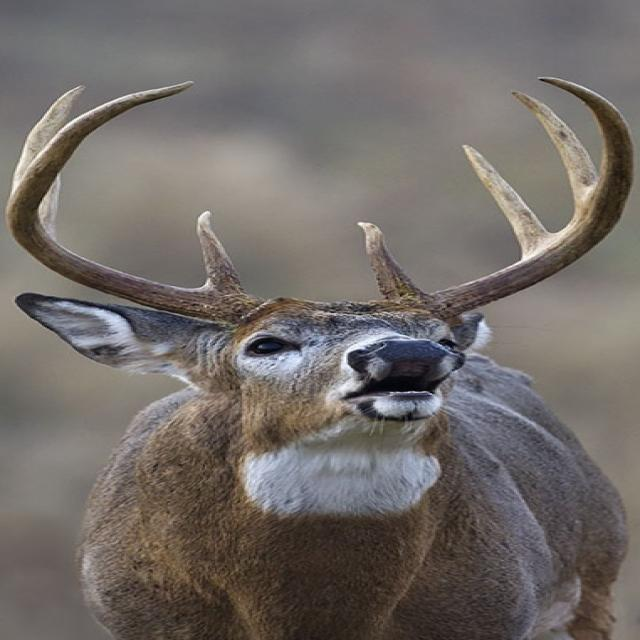L-F: (388, 76, 634, 319)
L-G1: (358, 219, 428, 299)
L-G2: (462, 144, 556, 260)
L-G3: (510, 89, 599, 217)
R-F: (3, 81, 271, 324)
R-G1: (195, 210, 249, 294)
